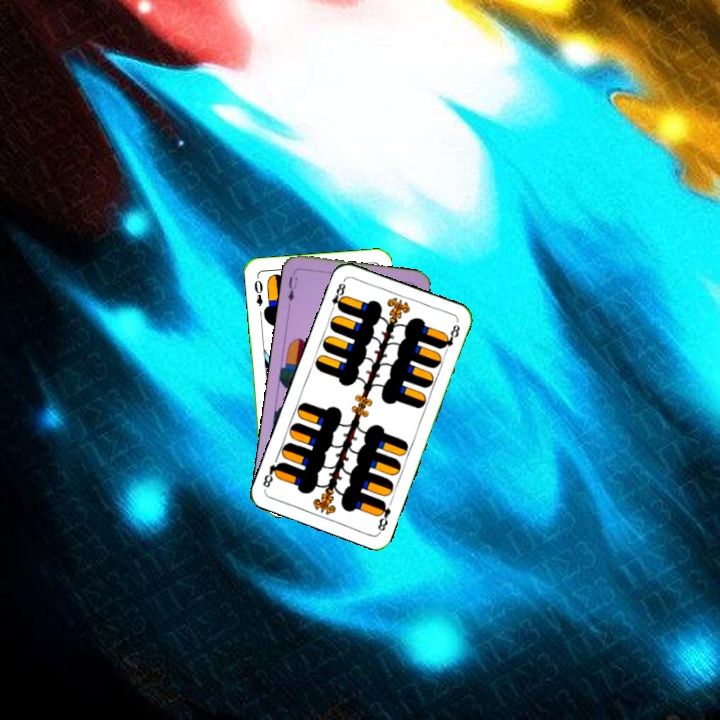E8: (327, 276, 348, 315), (373, 497, 394, 535)
EO: (250, 272, 265, 309)
EU: (284, 272, 300, 309)
